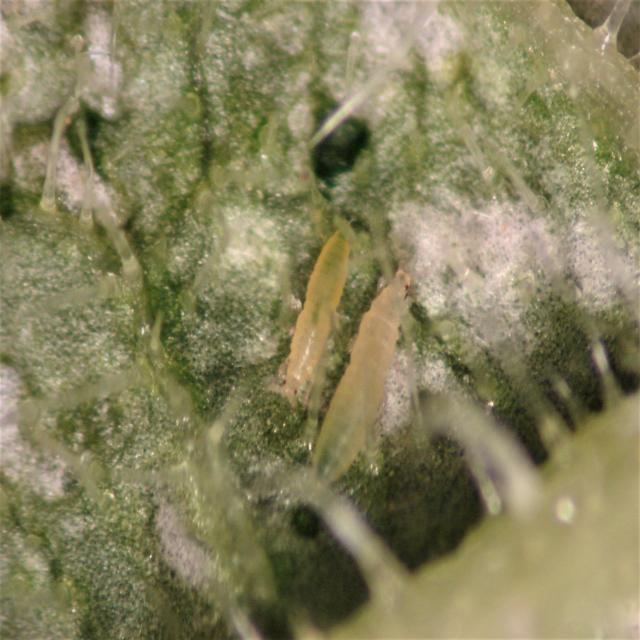Thrip-Larva-: (302, 236, 431, 509), (272, 212, 364, 416)
